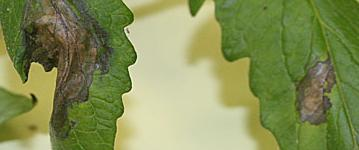Tomato leaf late blight: (192, 0, 359, 150), (0, 0, 135, 150)
